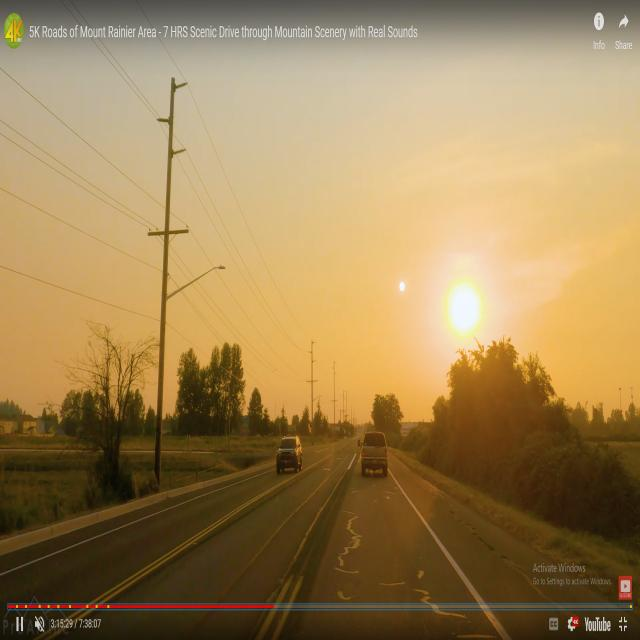sun: (439, 272, 493, 344)
